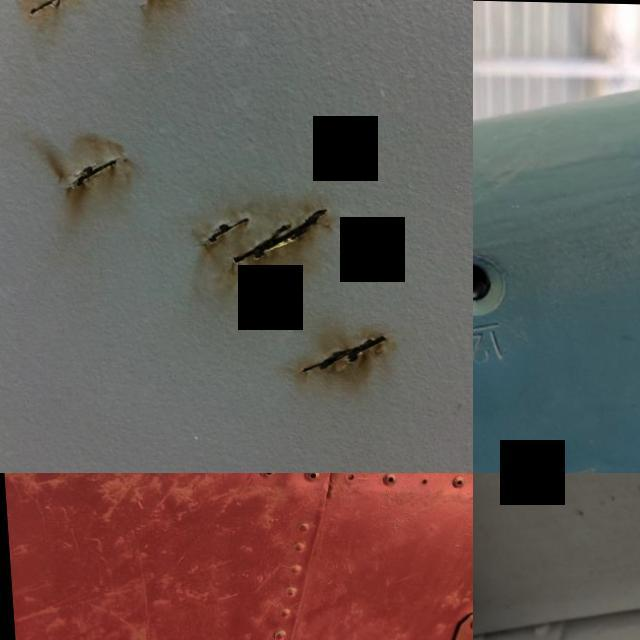Crack: (231, 207, 325, 262), (293, 331, 390, 371), (64, 157, 121, 187), (197, 217, 247, 246), (27, 0, 56, 18)
Missing_Fastener: (473, 226, 534, 345)
